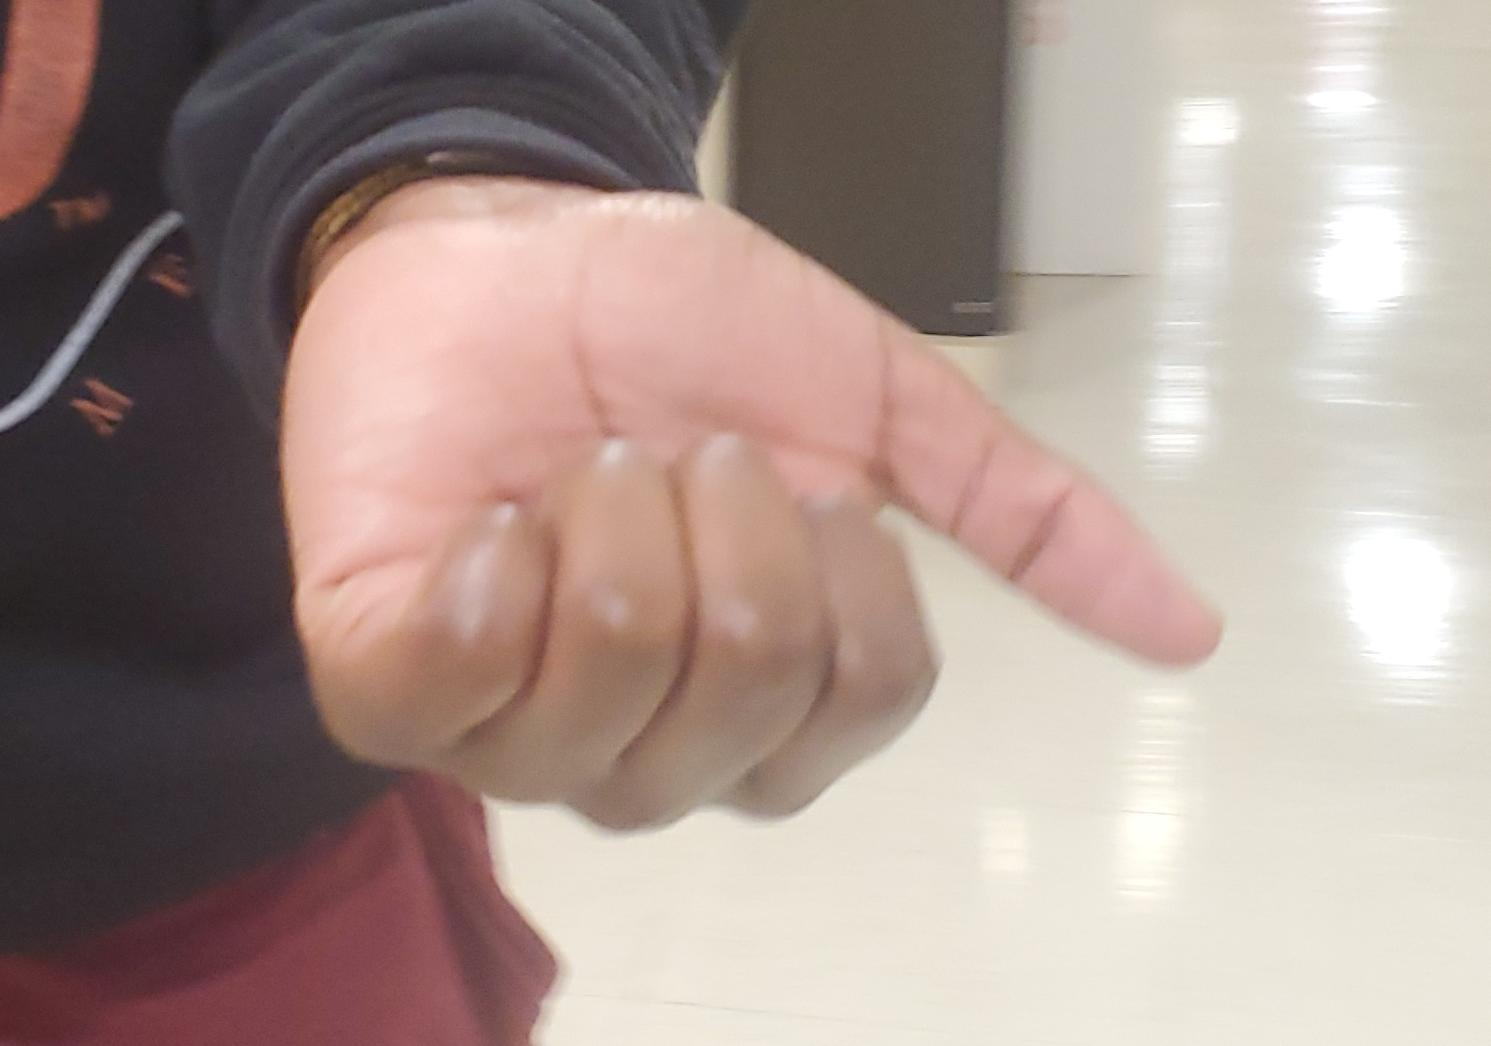left: (1, 0, 1491, 1046)
